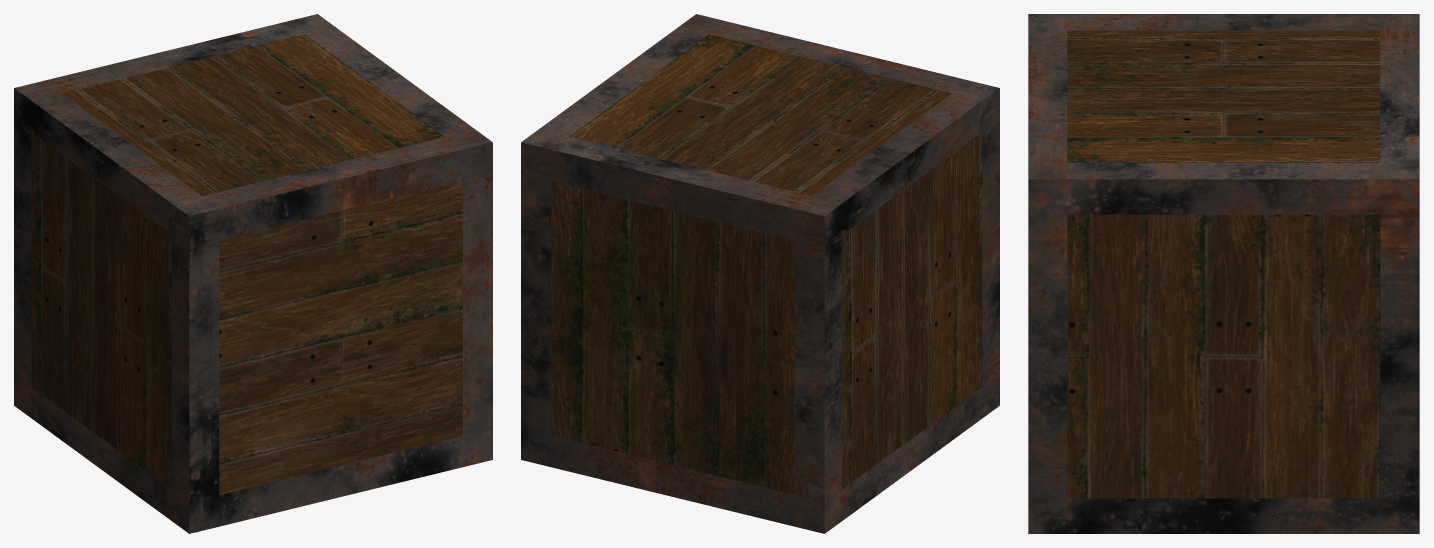
Rendered from WoodCrate.fbx.
The picture shows the model from 3 angles, left to right: view 1: azimuth 30°, elevation 25°; view 2: azimuth 150°, elevation 25°; view 3: azimuth 270°, elevation 25°; orthographic projection. The views are drawn at different scales.
Visible parts, largest first — view 1: Cube.001; view 2: Cube.001; view 3: Cube.001.
Part boxes in pixels (x1,y1,x2,y2): Cube.001: (14,14,492,533); Cube.001: (521,14,999,533); Cube.001: (1028,14,1419,533).
Size of the model in its own units: 200 by 200 by 200.
